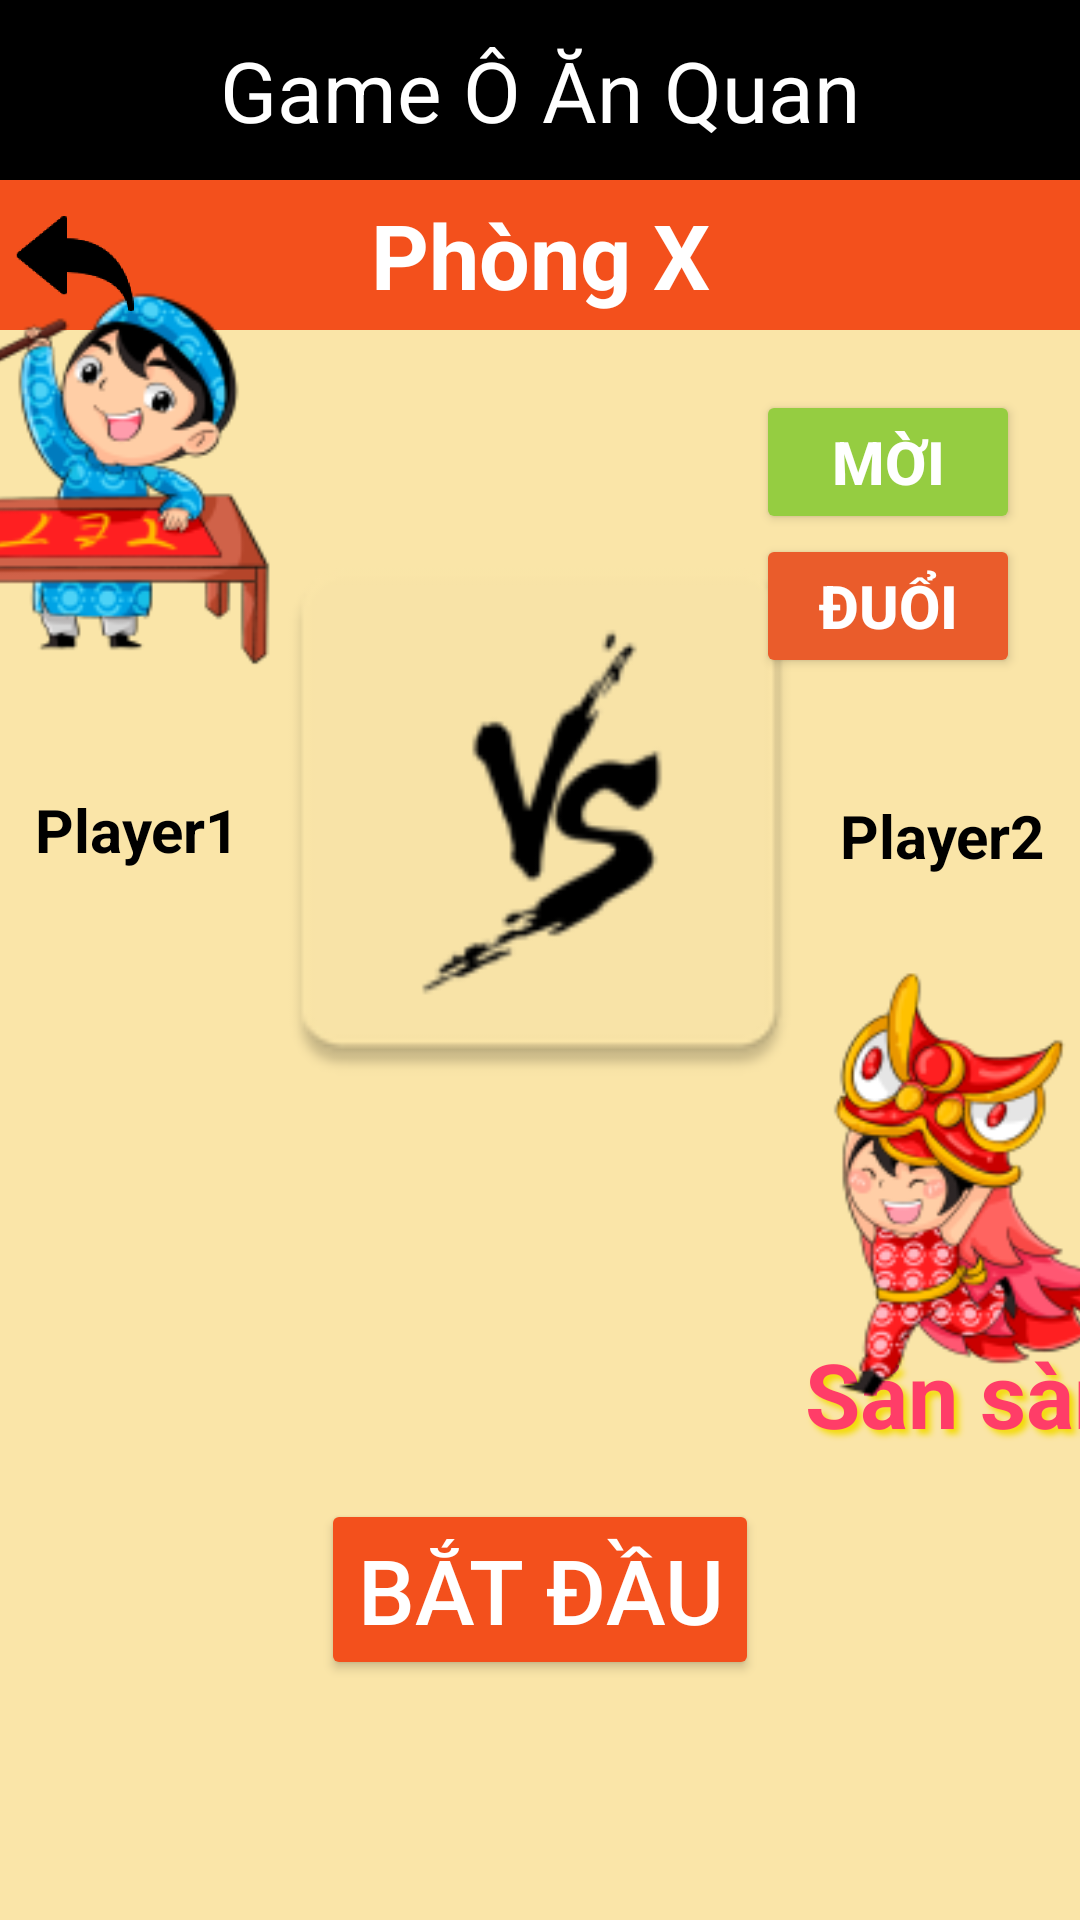

Icon click points for this 1080w x 1920h phone screenshot, format point (x, y):
back: point (75, 255)
